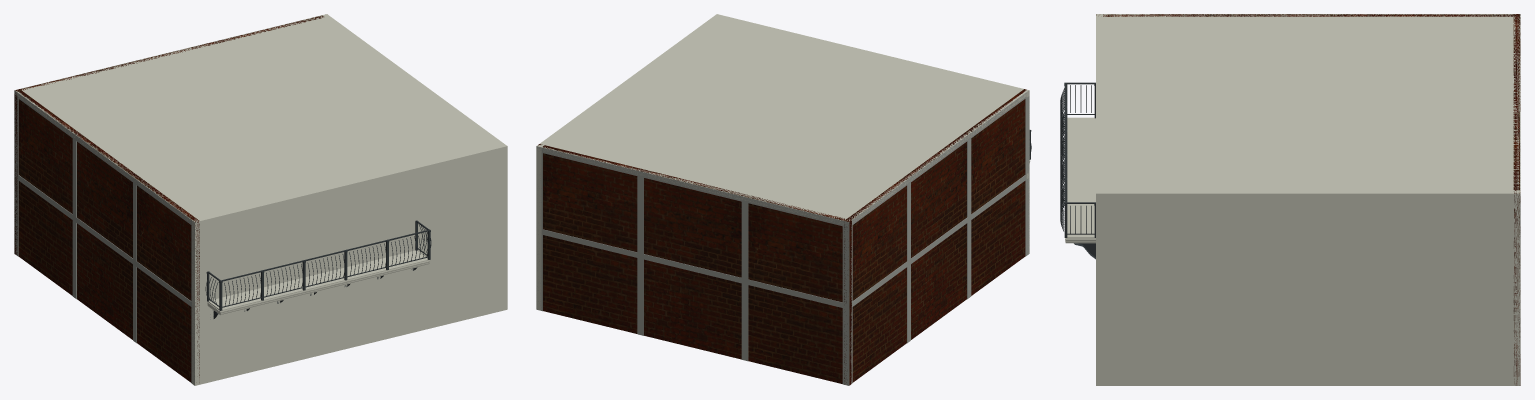
Rendered from building.glb.
The picture shows the model from 3 angles, left to right: view 1: azimuth 30°, elevation 25°; view 2: azimuth 150°, elevation 25°; view 3: azimuth 270°, elevation 25°; orthographic projection. The views are drawn at different scales.
Visible parts, largest first — view 1: roof/house:0/roof_slab#0001, house:0/edge0/z0/house:0/edge0/z0/wall_0_0, house:0/edge3/z0/house:0/edge3/z0/wall_0_0, balcony/sample/balcony_platform#0001, house:0/edge2/z0/house:0/edge2/z0/wall_0_0, house:0/edge1/z0/house:0/edge1/z0/wall_0_0, house:0/edge3/z0/house:0/edge3/z0/beam_0_0, house:0/edge3/z0/house:0/edge3/z0/beam_1_0, balcony/sample/balcony_fascia#0001, balcony/sample/balcony_handrail#0001; view 2: roof/house:0/roof_slab#0001, house:0/edge2/z0/house:0/edge2/z0/wall_0_0, house:0/edge3/z0/house:0/edge3/z0/wall_0_0, house:0/edge1/z0/house:0/edge1/z0/wall_0_0, house:0/edge2/z0/house:0/edge2/z0/beam_0_0, house:0/edge2/z0/house:0/edge2/z0/beam_1_0, house:0/edge0/z0/house:0/edge0/z0/wall_0_0, house:0/edge3/z0/house:0/edge3/z0/beam_0_0, house:0/edge3/z0/house:0/edge3/z0/beam_1_0, house:0/edge2/z0/house:0/edge2/z0/column_1_1, house:0/edge2/z0/house:0/edge2/z0/column_3_0, house:0/edge2/z0/house:0/edge2/z0/column_3_1 (+3 smaller); view 3: house:0/edge1/z0/house:0/edge1/z0/wall_0_0, roof/house:0/roof_slab#0001, balcony/sample/balcony_platform#0001, house:0/edge0/z0/house:0/edge0/z0/wall_0_0, house:0/edge2/z0/house:0/edge2/z0/wall_0_0, house:0/edge3/z0/house:0/edge3/z0/wall_0_0.
Boxes of the visible parts, bbox=[...] form: roof/house:0/roof_slab#0001: bbox=[14, 14, 507, 225]; house:0/edge0/z0/house:0/edge0/z0/wall_0_0: bbox=[192, 144, 507, 385]; house:0/edge3/z0/house:0/edge3/z0/wall_0_0: bbox=[17, 89, 199, 382]; balcony/sample/balcony_platform#0001: bbox=[208, 250, 429, 311]; house:0/edge2/z0/house:0/edge2/z0/wall_0_0: bbox=[14, 15, 323, 254]; house:0/edge1/z0/house:0/edge1/z0/wall_0_0: bbox=[322, 14, 507, 310]; house:0/edge3/z0/house:0/edge3/z0/beam_0_0: bbox=[14, 172, 195, 309]; house:0/edge3/z0/house:0/edge3/z0/beam_1_0: bbox=[14, 90, 194, 227]; balcony/sample/balcony_fascia#0001: bbox=[207, 260, 430, 315]; balcony/sample/balcony_handrail#0001: bbox=[207, 220, 429, 281]; roof/house:0/roof_slab#0001: bbox=[540, 15, 1029, 225]; house:0/edge2/z0/house:0/edge2/z0/wall_0_0: bbox=[538, 144, 851, 385]; house:0/edge3/z0/house:0/edge3/z0/wall_0_0: bbox=[844, 89, 1026, 384]; house:0/edge1/z0/house:0/edge1/z0/wall_0_0: bbox=[536, 14, 721, 310]; house:0/edge2/z0/house:0/edge2/z0/beam_0_0: bbox=[541, 229, 849, 309]; house:0/edge2/z0/house:0/edge2/z0/beam_1_0: bbox=[537, 146, 849, 227]; house:0/edge0/z0/house:0/edge0/z0/wall_0_0: bbox=[714, 14, 1029, 253]; house:0/edge3/z0/house:0/edge3/z0/beam_0_0: bbox=[851, 173, 1028, 307]; house:0/edge3/z0/house:0/edge3/z0/beam_1_0: bbox=[852, 90, 1029, 225]; house:0/edge2/z0/house:0/edge2/z0/column_1_1: bbox=[842, 226, 849, 303]; house:0/edge2/z0/house:0/edge2/z0/column_3_0: bbox=[741, 202, 748, 279]; house:0/edge2/z0/house:0/edge2/z0/column_3_1: bbox=[741, 283, 748, 361]; house:0/edge1/z0/house:0/edge1/z0/wall_0_0: bbox=[1096, 190, 1520, 385]; roof/house:0/roof_slab#0001: bbox=[1096, 14, 1520, 197]; balcony/sample/balcony_platform#0001: bbox=[1066, 117, 1095, 238]; house:0/edge0/z0/house:0/edge0/z0/wall_0_0: bbox=[1096, 14, 1102, 385]; house:0/edge2/z0/house:0/edge2/z0/wall_0_0: bbox=[1513, 14, 1520, 385]; house:0/edge3/z0/house:0/edge3/z0/wall_0_0: bbox=[1096, 14, 1514, 16].
Size of the model in its own units: 12 by 6 by 13.01.
4 materials, 1 textured.
